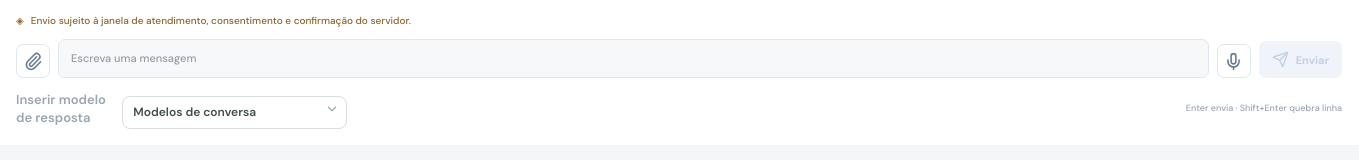
Test: insere um modelo no campo sem enviar automaticamente
Select "Primeiro contato" in the dropdown labelled "Inserir modelo de resposta" at (234, 113), box [122,96,347,129]
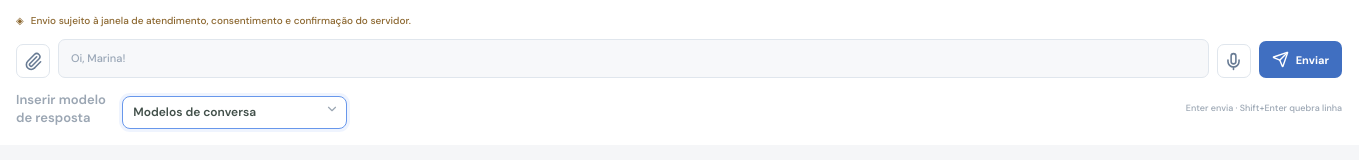
Expected: the text box named "mensagem" holds "Oi, Marina!", [58,39,1209,78]
